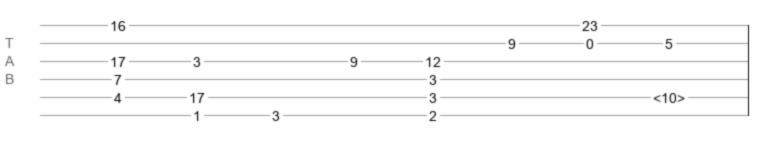0: (586, 36, 594, 46)
1: (193, 108, 201, 118)
12: (425, 54, 441, 64)
16: (110, 18, 126, 28)
17: (110, 54, 126, 64), (189, 90, 205, 100)
2: (429, 108, 437, 118)
23: (582, 18, 598, 28)
3: (193, 54, 201, 64), (272, 108, 280, 118), (429, 90, 437, 100), (429, 72, 437, 82)
4: (114, 90, 122, 100)
5: (665, 36, 673, 46)
7: (114, 72, 122, 82)
9: (350, 54, 358, 64), (508, 36, 516, 46)
harmonic: (653, 90, 685, 100)
